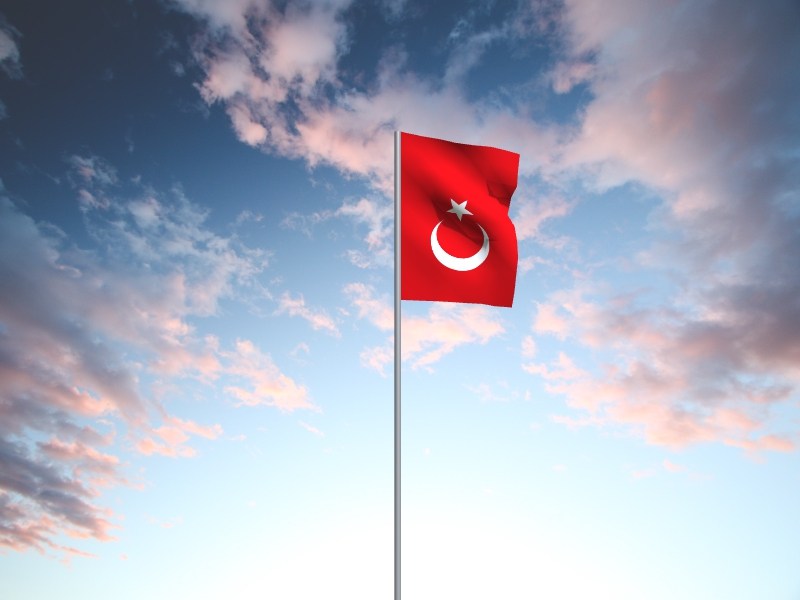tr: (400, 132, 521, 309)
